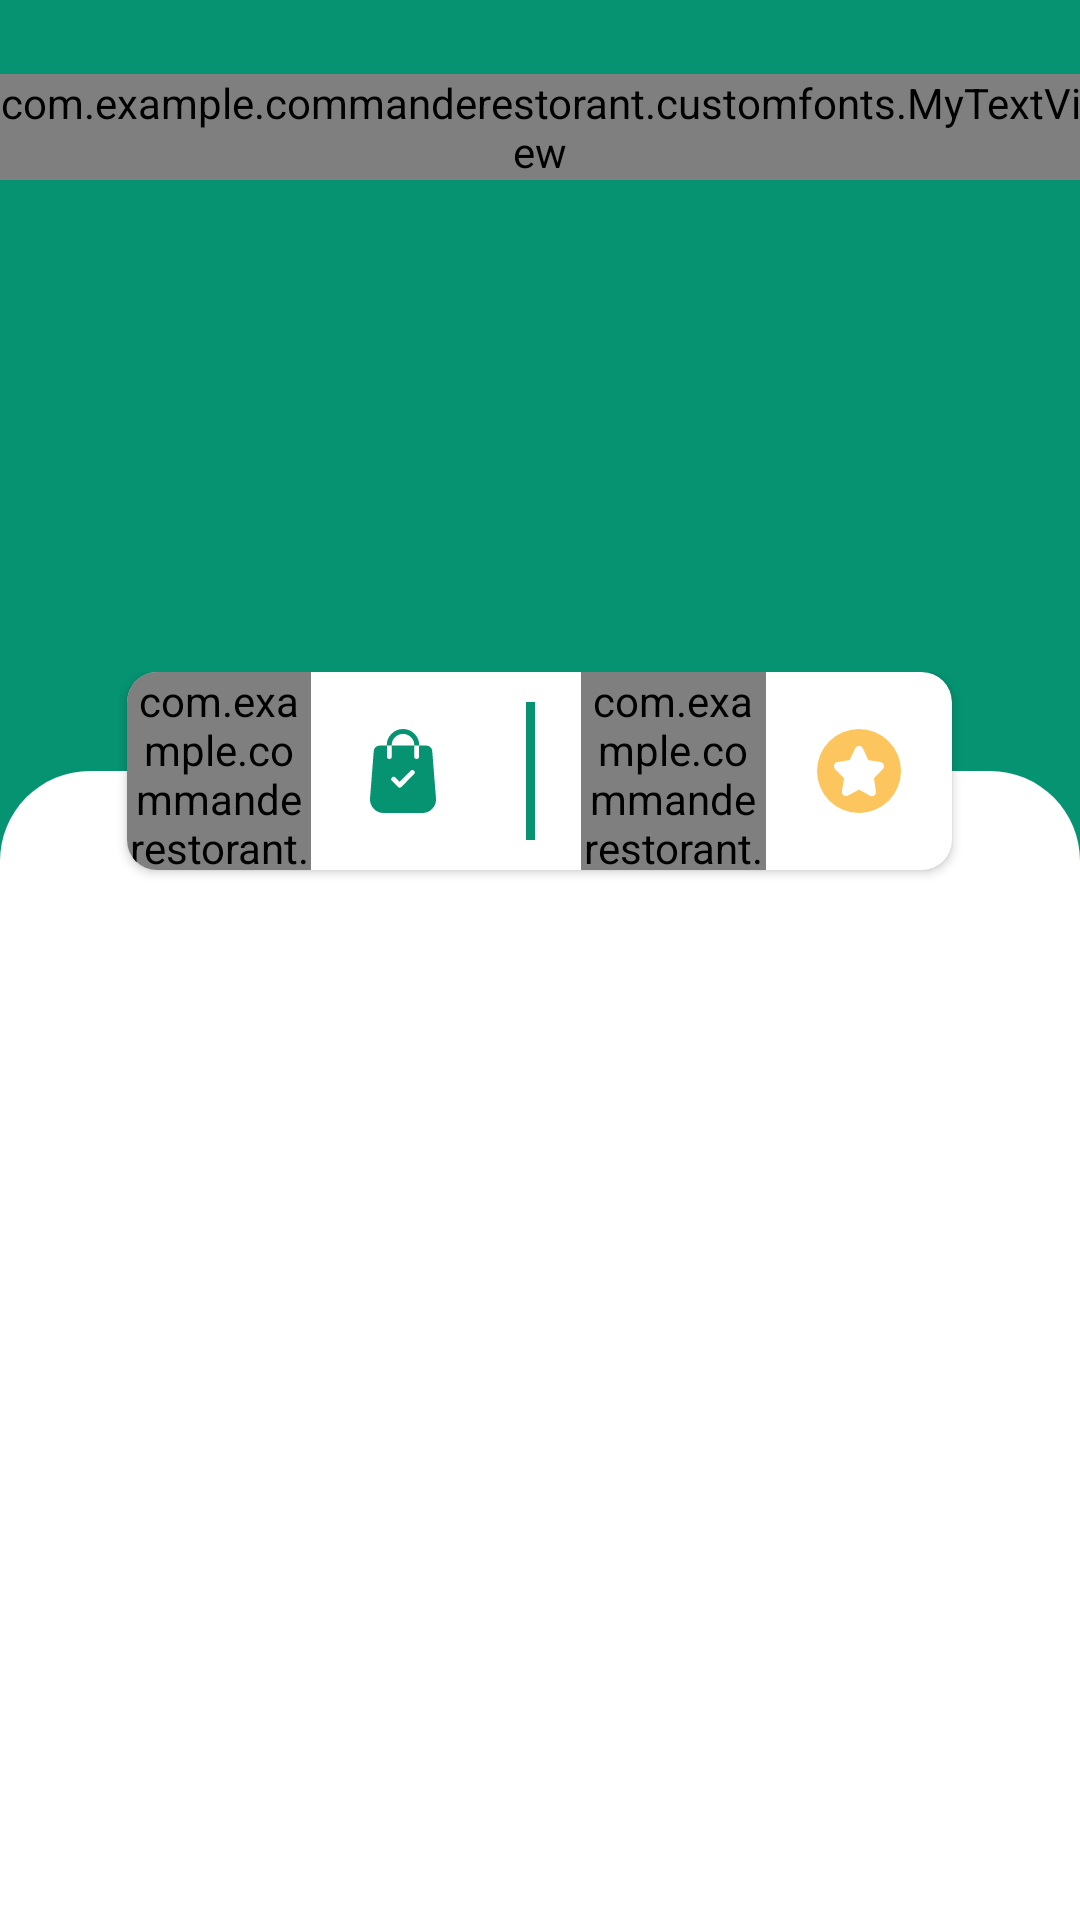

Icon click points for this 1080w x 1920h phone screenshot, format (x,y):
market: (403,771)
star: (859,771)
